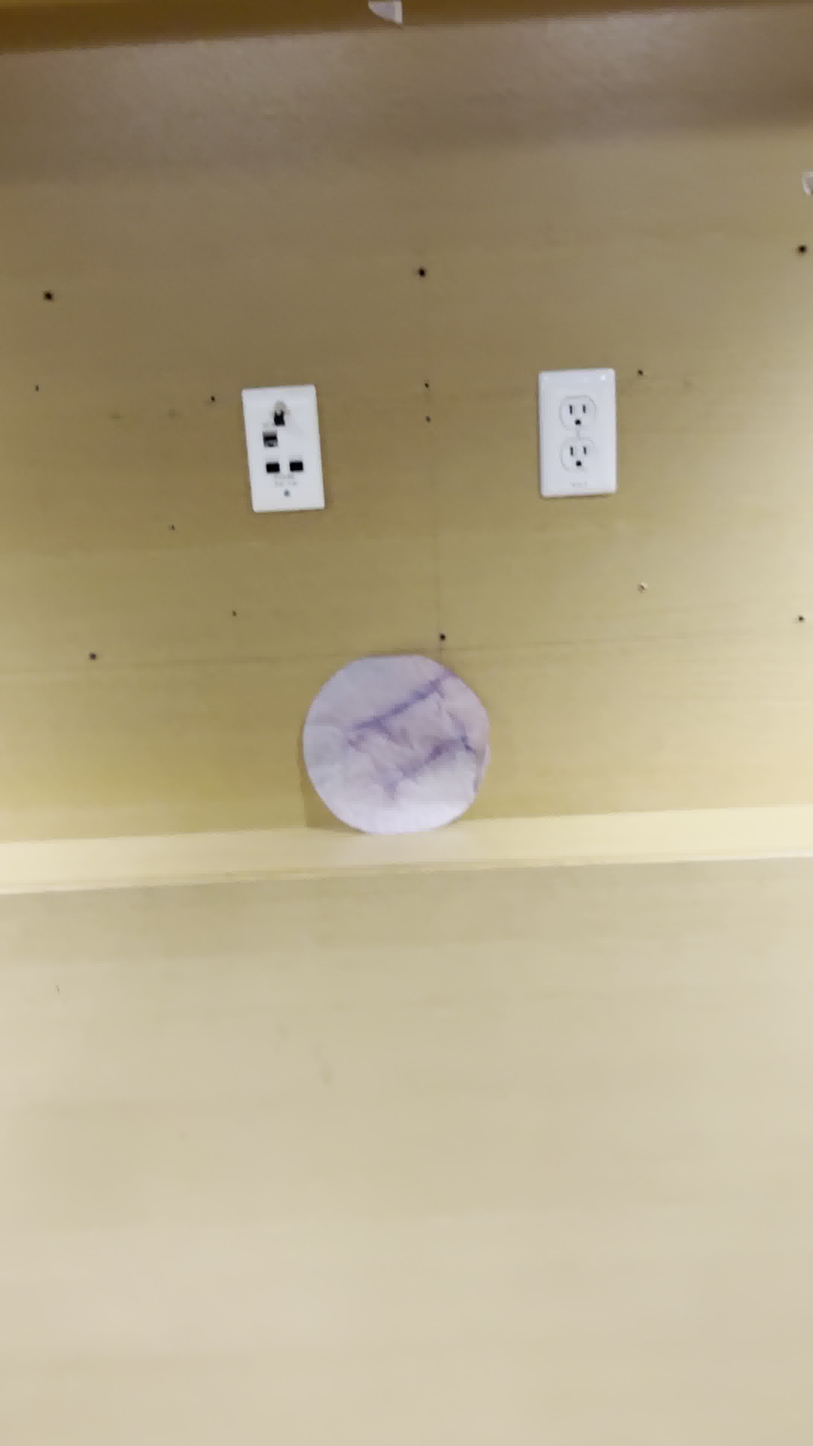Target: (290, 648, 495, 842)
